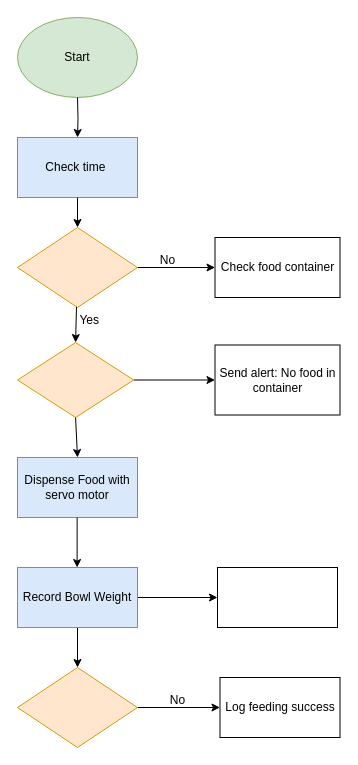
This 358x765 diagram has some shape labels left out. The shapes that lost their labels are listed below. From the top down, each one's centre as x and y in pixels, then its label:
the point at 77,267: Is it feeding time?
the point at 75,380: Food Available ?
the point at 277,597: Send Alert: When Food Not Eaten
the point at 77,707: Bowl Weight Changed?
